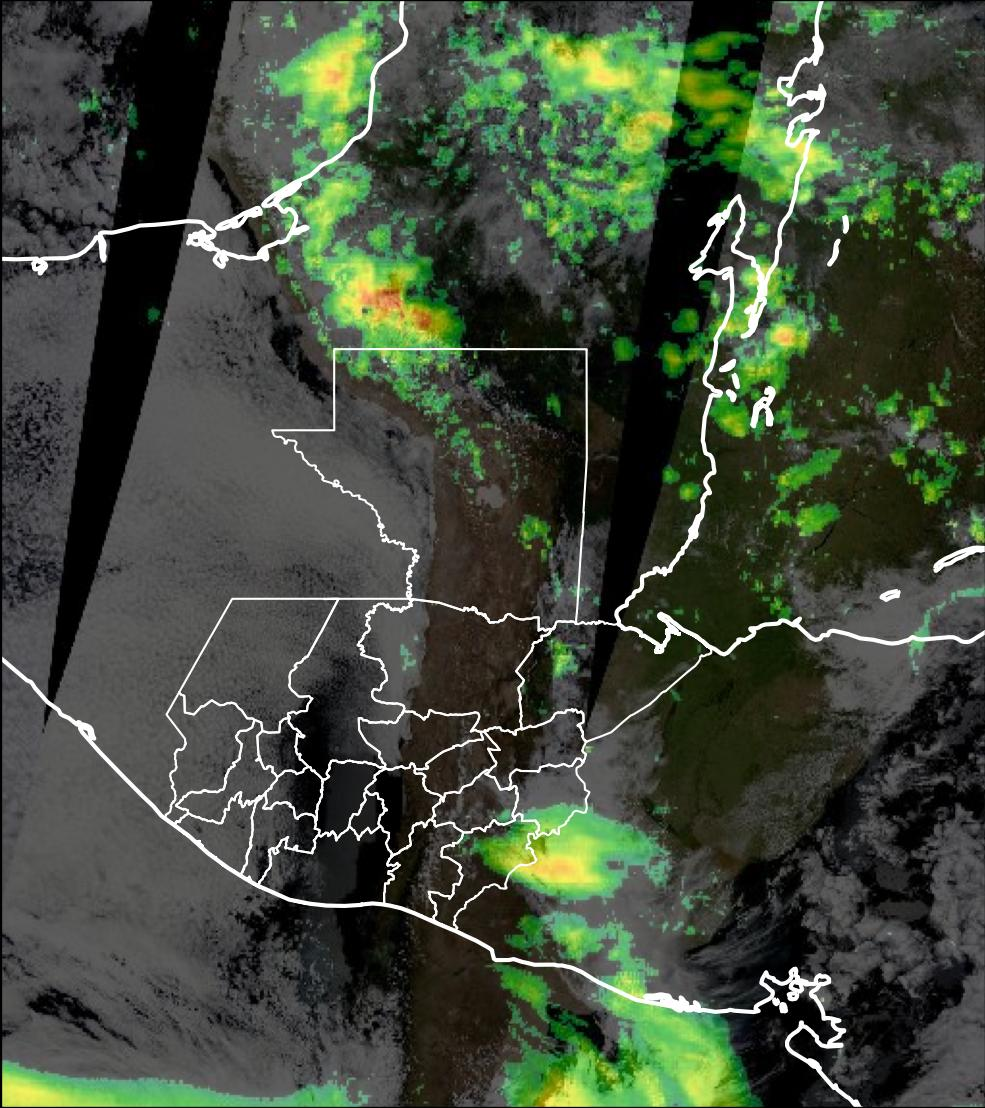precipitacion: (329, 265, 485, 343)
